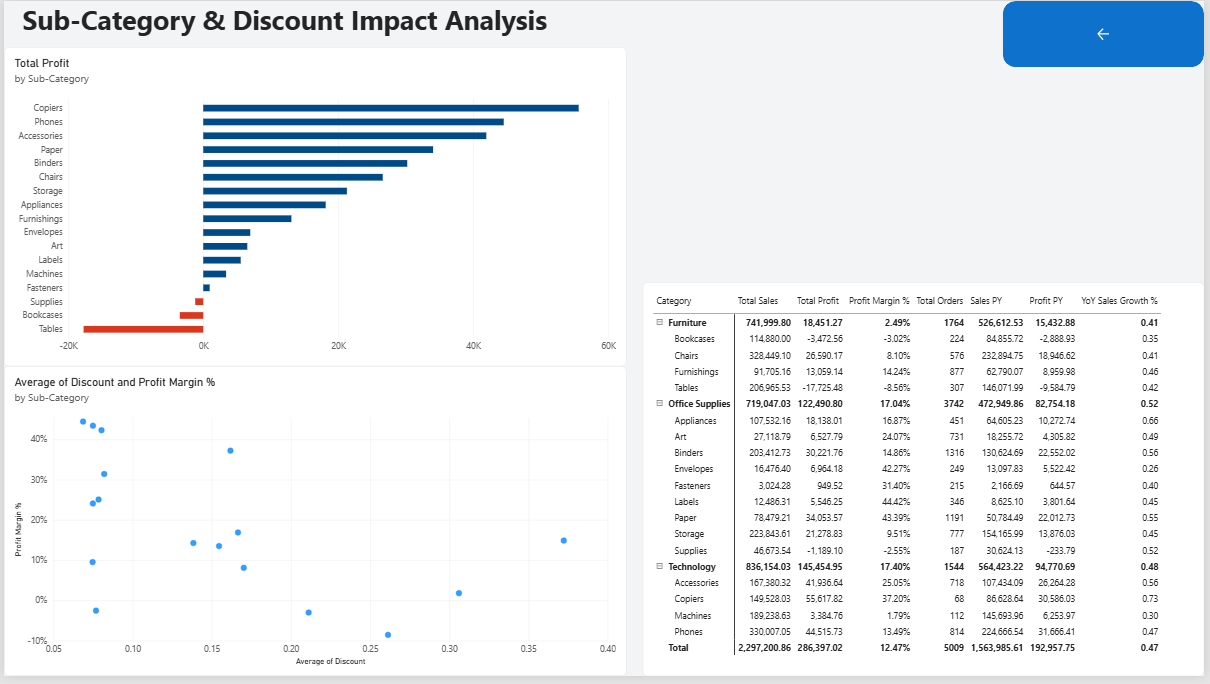

The dashboard page shown, as its layout file describes it:
{"tool":"powerbi","page":{"name":"Loss & Discount Analysis","canvas":[1920,1080],"ordinal":1},"visuals":[{"type":"textbox","box":[10,0,878,74],"z":0},{"type":"actionButton","box":[1598,0,322,106],"z":1000},{"type":"clusteredBarChart","fields":{"Category":["Fact_Sales.Sub-Category"],"Y":["_Mesures.Total Profit"]},"box":[0,74,996,510],"z":2000},{"type":"scatterChart","fields":{"Category":["Fact_Sales.Sub-Category"],"X":["Avg(Fact_Sales.Discount)"],"Y":["_Mesures.Profit Margin %"]},"box":[0,584,996,496],"z":2001},{"type":"pivotTable","fields":{"Rows":["Fact_Sales.Category","Fact_Sales.Sub-Category"],"Values":["_Mesures.Total Sales","_Mesures.Total Profit","_Mesures.Profit Margin %","_Mesures.Total Orders","_Mesures.Sales PY","_Mesures.Profit PY","_Mesures.YoY Sales Growth %"]},"box":[1022,450,898,630],"z":2002}]}

Visuals, with their boxes in screenshot pixels (x1, y1, x2, y2), scaled from the page's 1920x1080 canvas onto the 1210x684 screenshot:
textbox: pyautogui.locateOnScreen(6, 0, 560, 47)
actionButton: pyautogui.locateOnScreen(1007, 0, 1209, 67)
clusteredBarChart - Fact_Sales.Sub-Category x _Mesures.Total Profit: pyautogui.locateOnScreen(0, 47, 628, 370)
scatterChart - Fact_Sales.Sub-Category x Avg(Fact_Sales.Discount): pyautogui.locateOnScreen(0, 370, 628, 683)
pivotTable - Fact_Sales.Category x Fact_Sales.Sub-Category: pyautogui.locateOnScreen(644, 285, 1209, 683)
